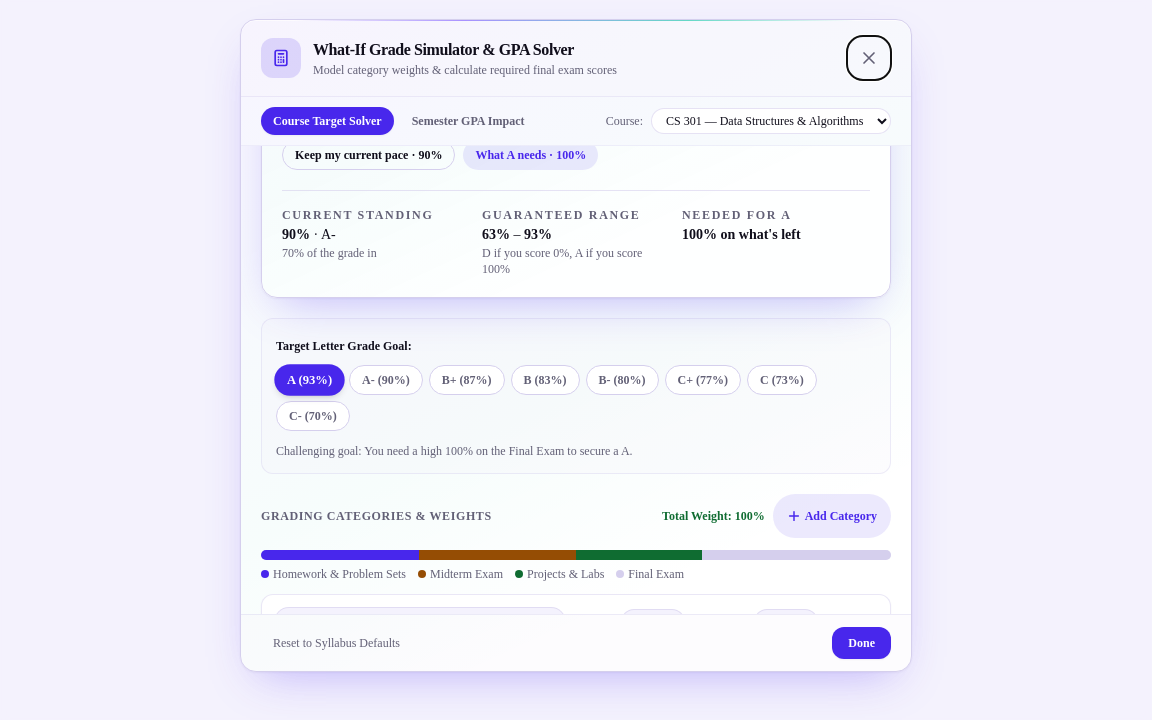
GradeCalculatorModal (Item 36) › picking a goal swings the what-if slider to the score that goal needs
(page scrolled)
Click the button "B (83%)" at (545, 380), box [510,365,580,395]
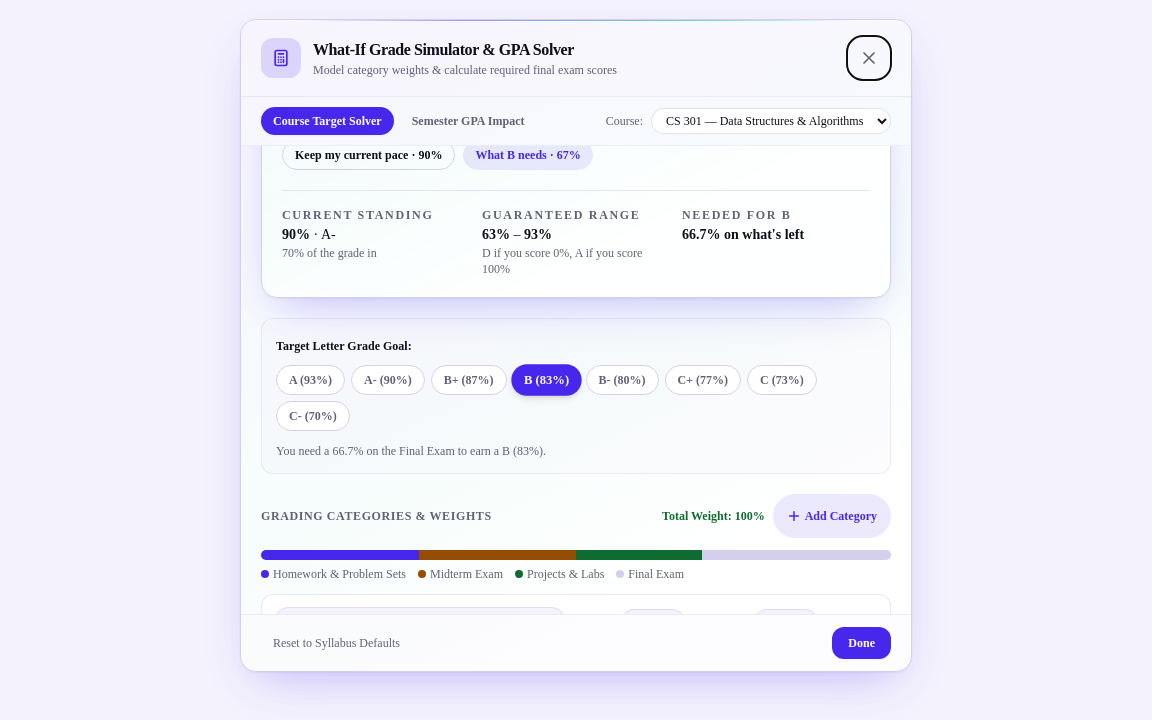
expect the text "Needed for B" is shown: met, box [682,208,792,222]
